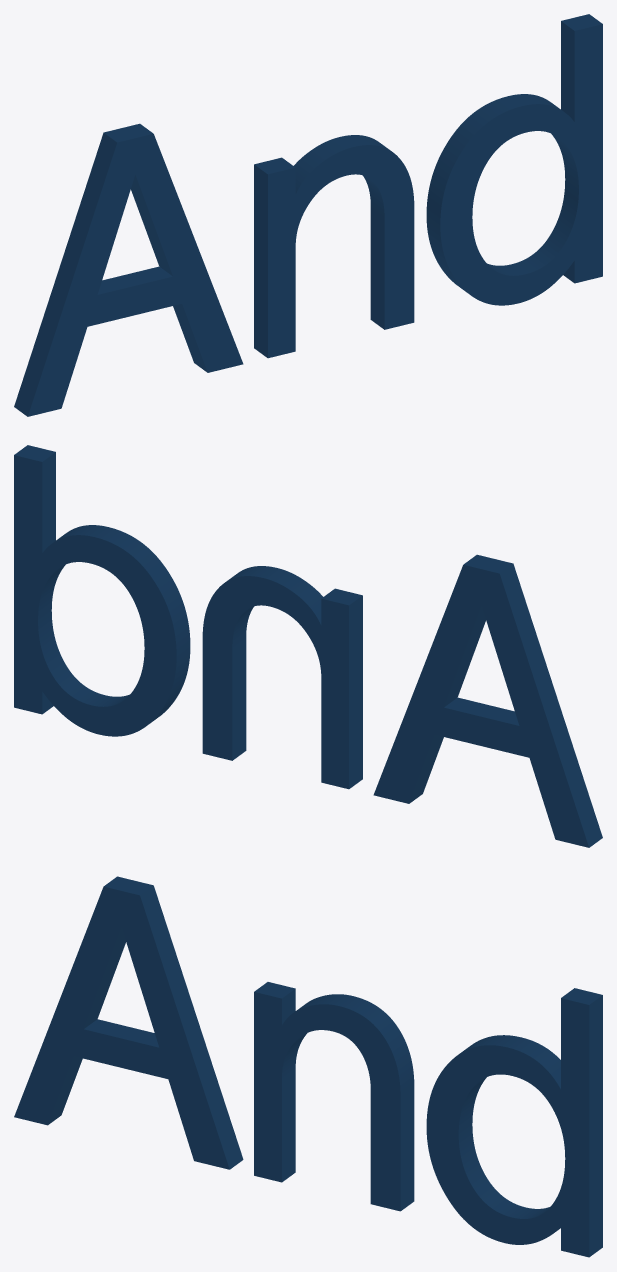
The model's file is And.gltf.
3 views of the same model, one above another, from view 1: azimuth 30°, elevation 25°; view 2: azimuth 150°, elevation 25°; view 3: azimuth 330°, elevation 25° (orthographic).
Size of the model in its own units: 2.41 by 1.04 by 0.1.
